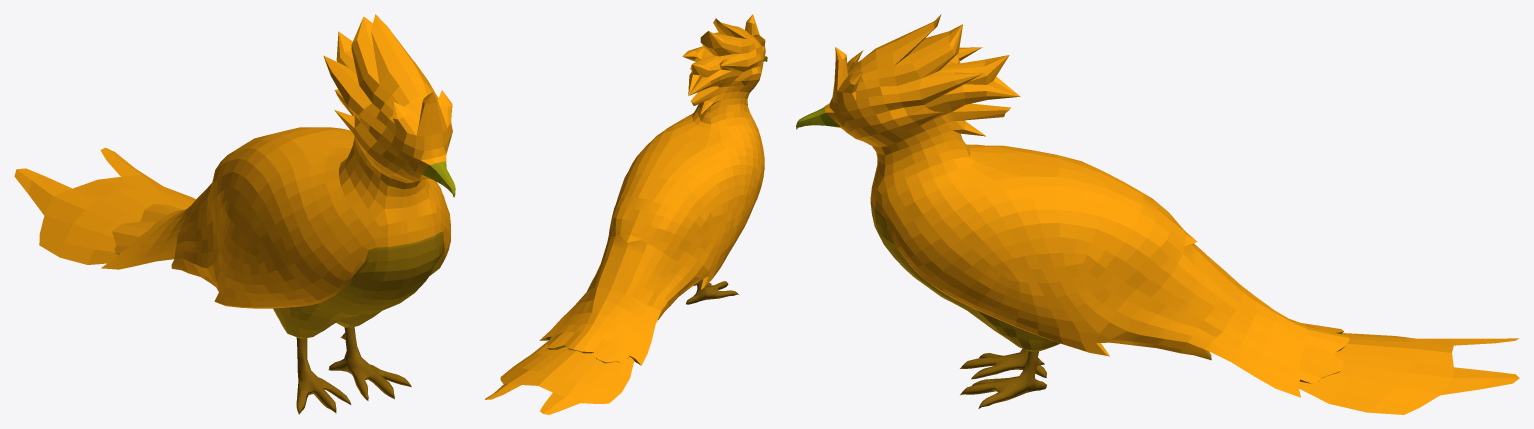
File: phoenix.fbx
3 views of the same model, side by side, from view 1: azimuth 30°, elevation 25°; view 2: azimuth 150°, elevation 25°; view 3: azimuth 270°, elevation 25° (orthographic). The views are drawn at different scales.
Parts seen in each view (by area): view 1: polySurface1; view 2: polySurface1; view 3: polySurface1.
Boxes of the visible parts, left/top/right/bottom form: polySurface1: left=14, top=14, right=455, bottom=414; polySurface1: left=485, top=14, right=767, bottom=414; polySurface1: left=796, top=14, right=1519, bottom=414.
Bounding box in the file's own units: 59.69 × 136 × 241.
